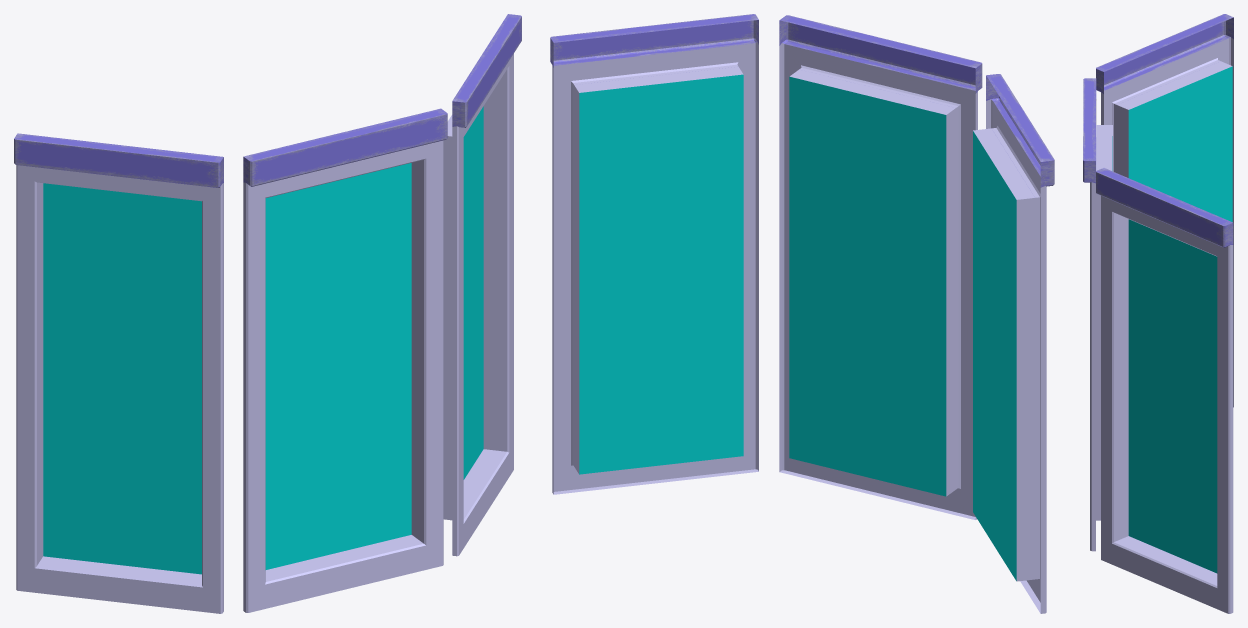
Rendered from WallThreeWindowInsert.fbx.
3 views of the same model, side by side, from view 1: azimuth 30°, elevation 25°; view 2: azimuth 150°, elevation 25°; view 3: azimuth 270°, elevation 25° (orthographic). The views are drawn at different scales.
Visible parts, largest first — view 1: WallThreeWindowInsert; view 2: WallThreeWindowInsert; view 3: WallThreeWindowInsert.
Boxes of the visible parts, x1,y1,x2,y2 form: WallThreeWindowInsert: [14, 14, 521, 613]; WallThreeWindowInsert: [550, 14, 1054, 613]; WallThreeWindowInsert: [1083, 14, 1233, 613].
Bounding box in the file's own units: 2.97 × 2.55 × 0.8926.
